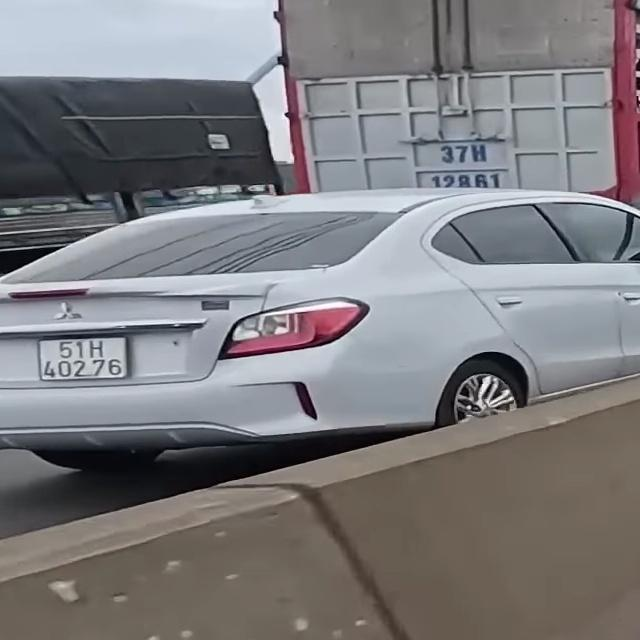license-plate: (38, 337, 129, 382)
